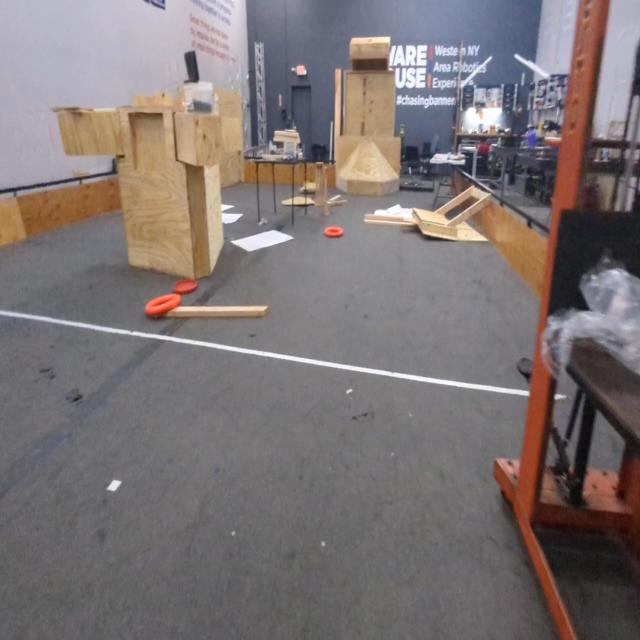note: (144, 290, 180, 318), (326, 227, 346, 240)
